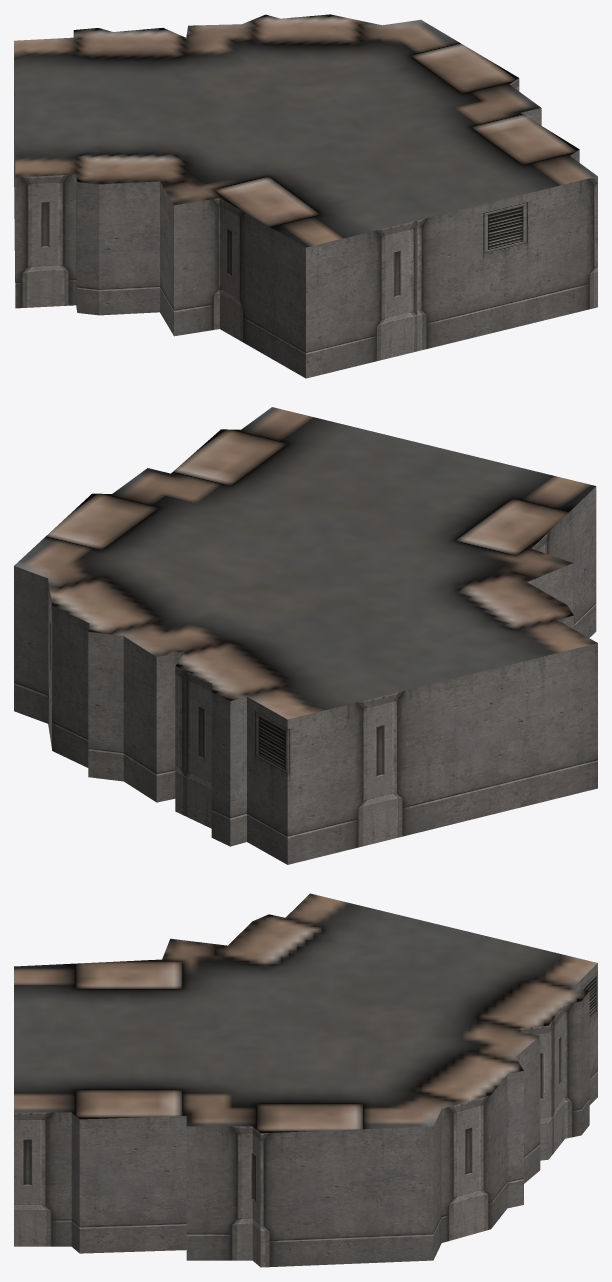
Rendered from building_hard_40.glb.
The picture shows the model from 3 angles, top to bottom: view 1: azimuth 30°, elevation 25°; view 2: azimuth 150°, elevation 25°; view 3: azimuth 270°, elevation 25°; orthographic projection. The views are drawn at different scales.
Visible parts, largest first — view 1: buildings/saxarba/building_hard/building_hard_40; view 2: buildings/saxarba/building_hard/building_hard_40; view 3: buildings/saxarba/building_hard/building_hard_40.
Boxes of the visible parts, x1,y1,x2,y2 form: buildings/saxarba/building_hard/building_hard_40: [14, 14, 597, 378]; buildings/saxarba/building_hard/building_hard_40: [14, 407, 597, 864]; buildings/saxarba/building_hard/building_hard_40: [14, 893, 597, 1267].
Size of the model in its own units: 69 by 18 by 71.
